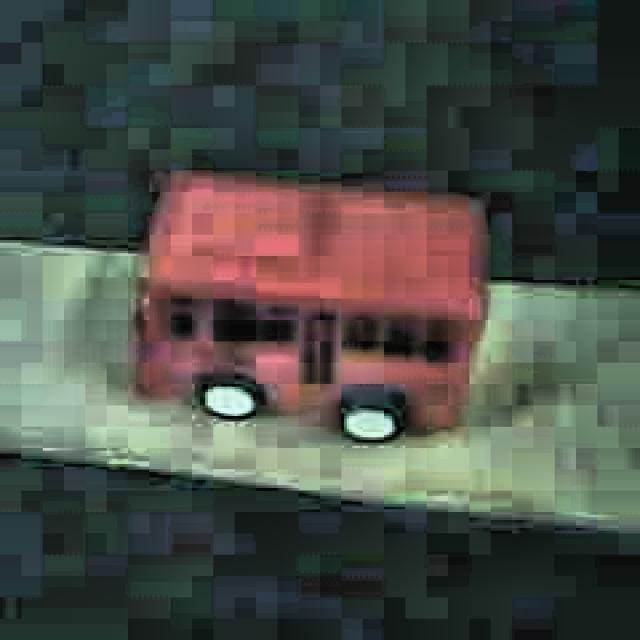bus: (129, 166, 488, 448)
